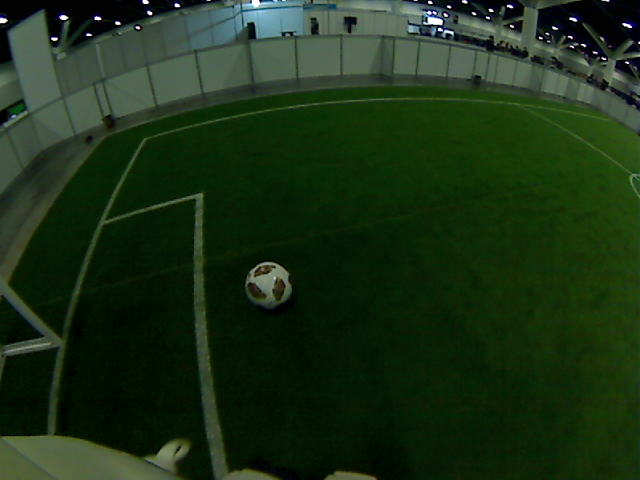ball: (247, 265, 287, 305)
goalpost: (35, 279, 79, 345)
